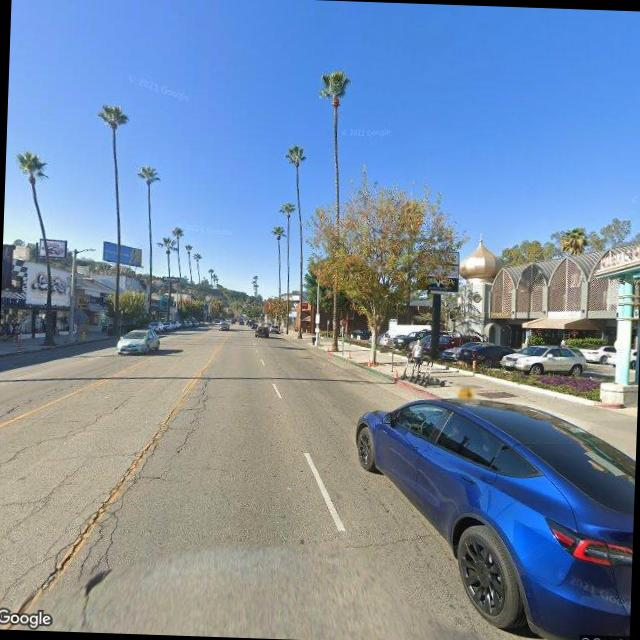crack: (0, 376, 219, 626), (343, 526, 440, 553)
